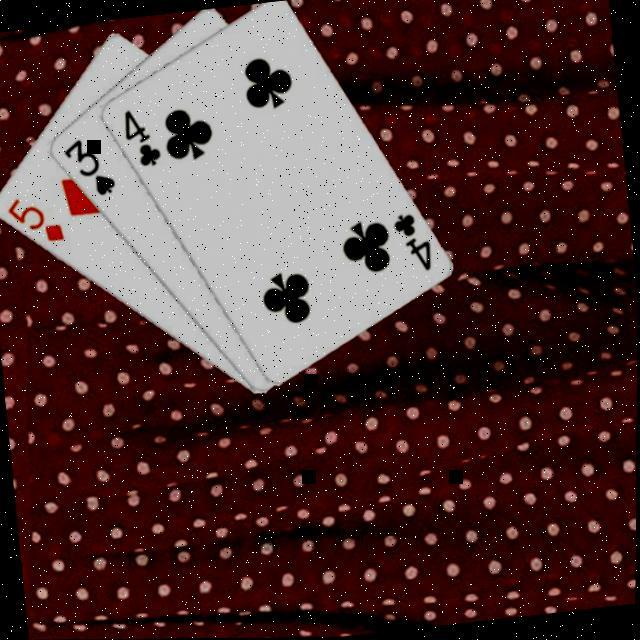3S: (56, 133, 118, 204)
4C: (385, 209, 434, 279), (115, 104, 162, 174)
5D: (0, 191, 65, 251)
